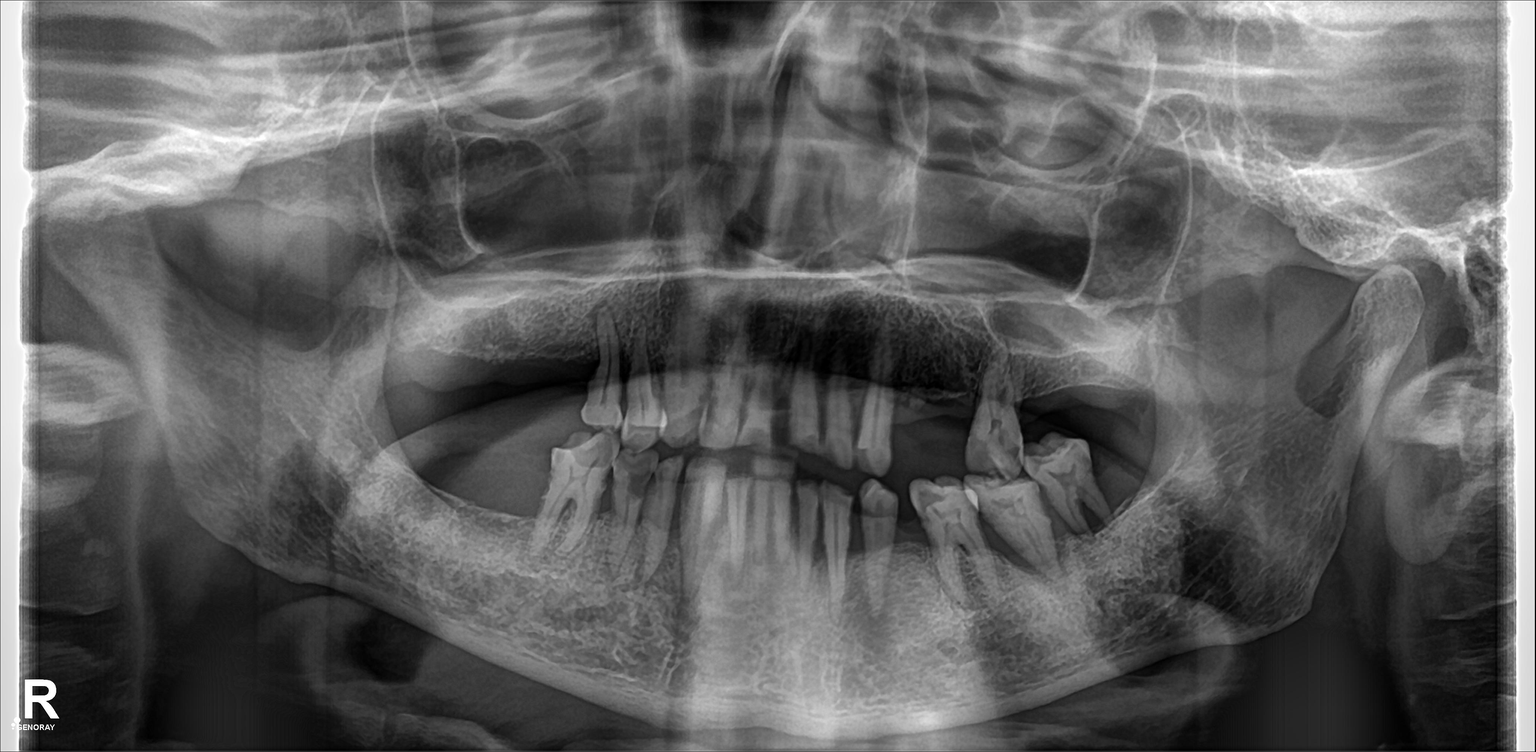Missing Tooth: (907, 363, 955, 459), (425, 434, 465, 541), (1032, 361, 1094, 429), (507, 441, 547, 544), (1099, 441, 1143, 533), (391, 307, 426, 420), (471, 436, 504, 545), (477, 318, 514, 413), (434, 313, 468, 411), (521, 316, 554, 411), (898, 506, 927, 599), (564, 315, 585, 408)
